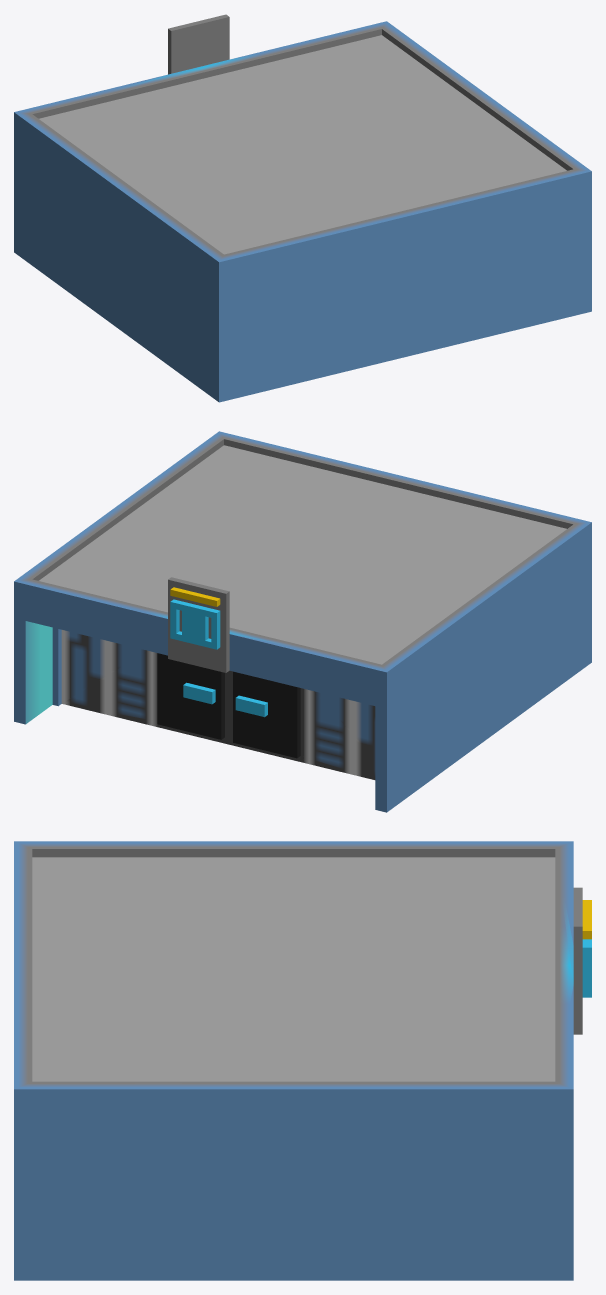
File: obj_store17a.fbx
3 views of the same model, one above another, from view 1: azimuth 30°, elevation 25°; view 2: azimuth 150°, elevation 25°; view 3: azimuth 270°, elevation 25° (orthographic). The views are drawn at different scales.
Parts seen in each view (by area): view 1: obj_store17a; view 2: obj_store17a; view 3: obj_store17a.
Part boxes in pixels (x1,y1,x2,y2): obj_store17a: (14,14,591,402); obj_store17a: (14,431,591,812); obj_store17a: (14,841,591,1280).
Bounding box in the file's own units: 6.4 × 6.3 × 3.
Materials: 1 (1 with a texture image).
